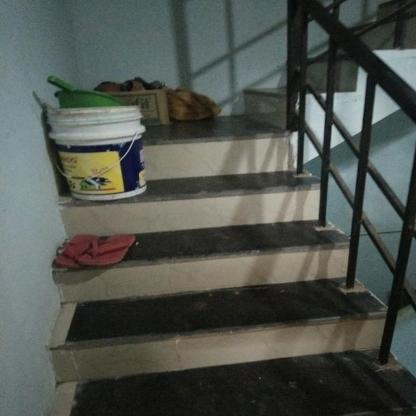stair: (47, 88, 416, 416)
